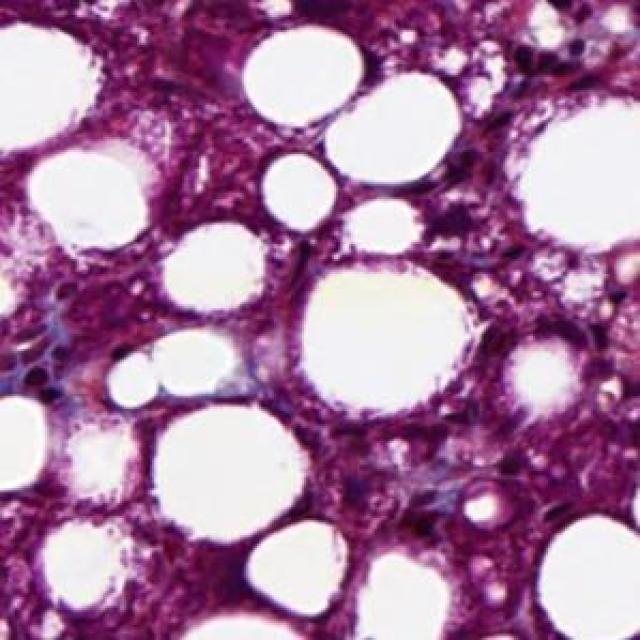inflammation: (526, 306, 620, 385)
